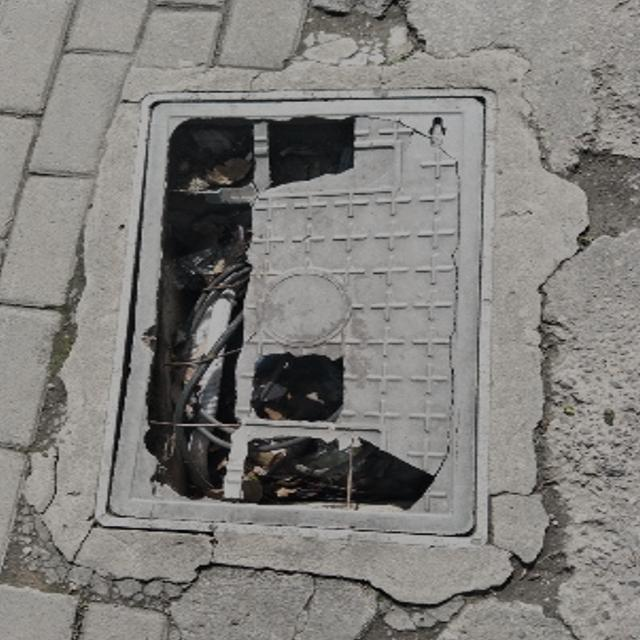broke: (93, 87, 496, 542)
